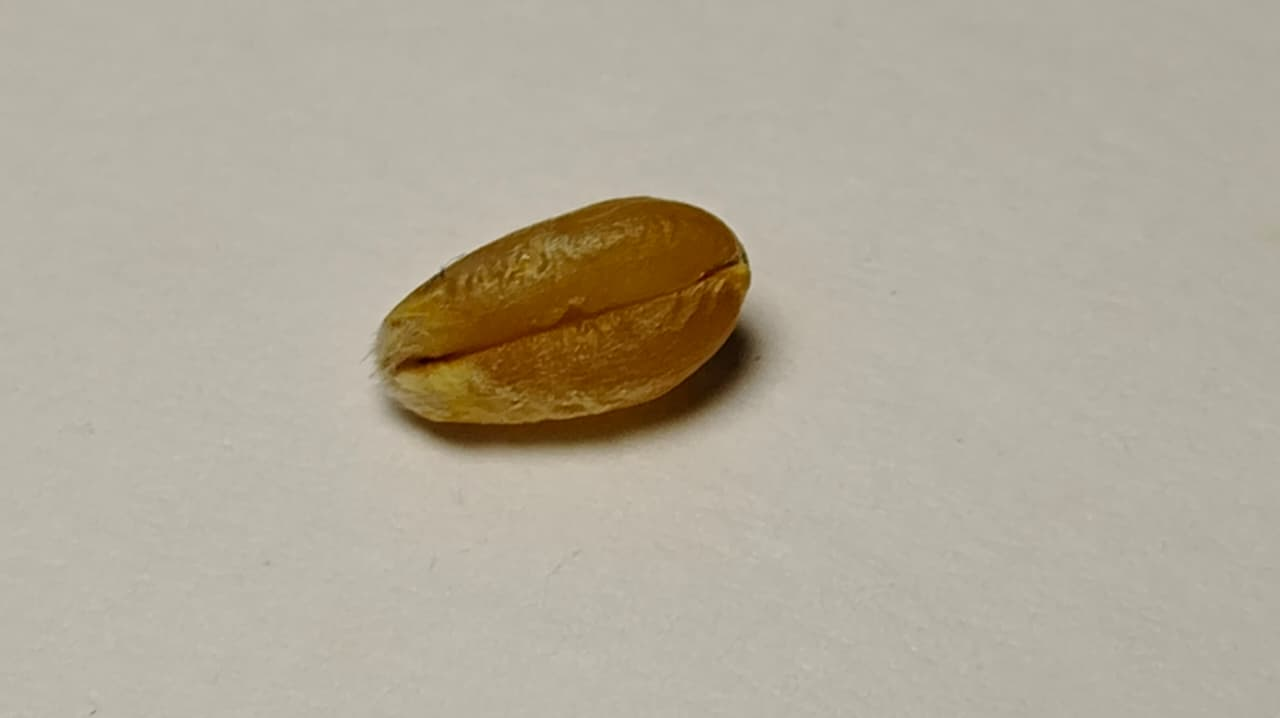healthy: (377, 197, 748, 423)
